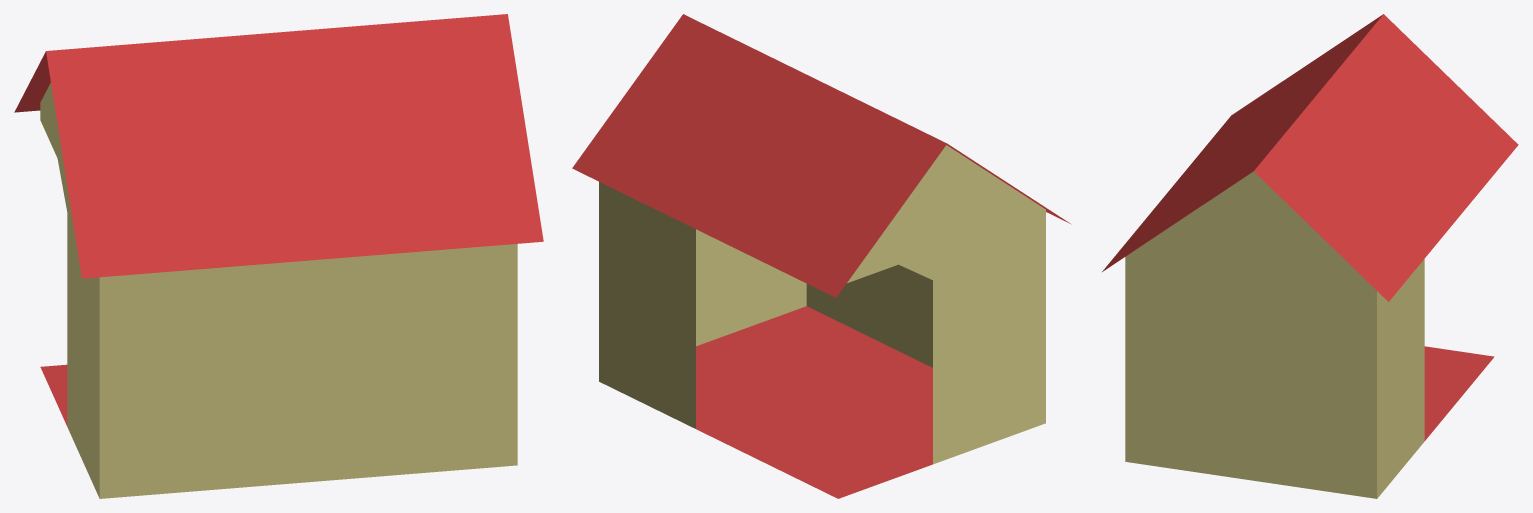
The picture shows the model from 3 angles, left to right: view 1: azimuth 30°, elevation 25°; view 2: azimuth 150°, elevation 25°; view 3: azimuth 270°, elevation 25°; orthographic projection. The views are drawn at different scales.
Size of the model in its own units: 18.92 by 16.71 by 14.04.
